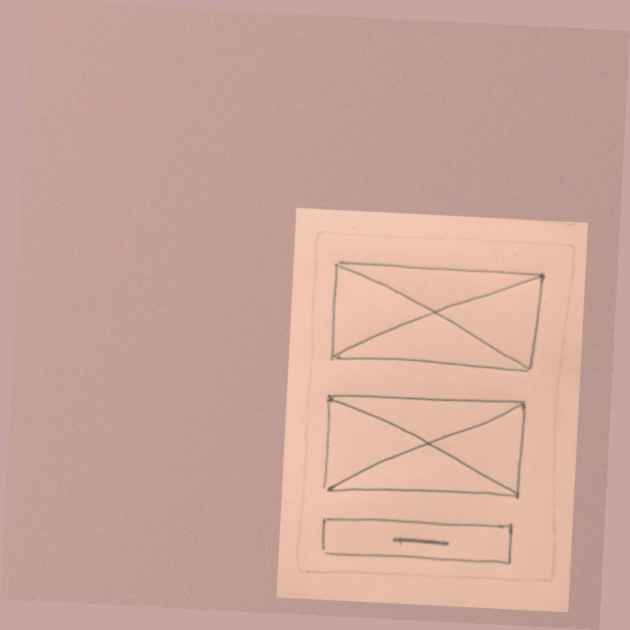button: (315, 511, 517, 571)
image: (324, 255, 547, 383), (313, 385, 532, 509)
